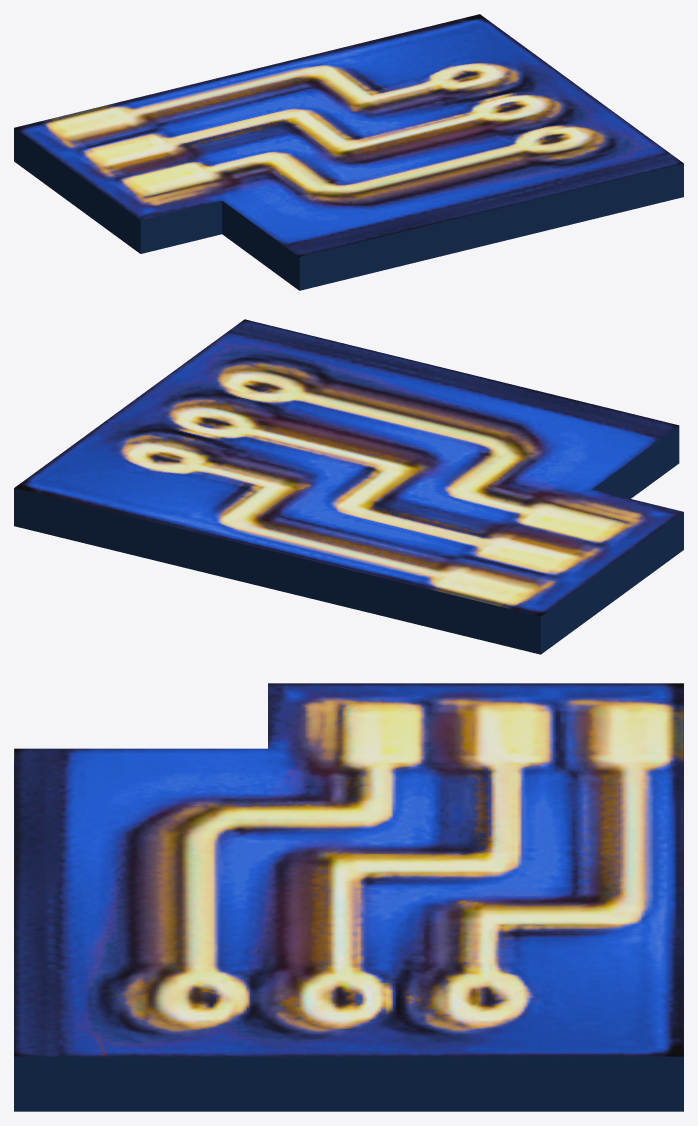
The model's file is static.glb.
3 renders of one model, top to bottom at view 1: azimuth 30°, elevation 25°; view 2: azimuth 150°, elevation 25°; view 3: azimuth 270°, elevation 25°, orthographic. The views are drawn at different scales.
Visible parts, largest first — view 1: Boole; view 2: Boole; view 3: Boole.
Part boxes in pixels (<box>): Boole: <box>14,14,683,290</box>; Boole: <box>14,319,683,654</box>; Boole: <box>14,683,683,1111</box>.
Size of the model in its own units: 0.9601 by 0.0662 by 0.7281.
2 materials, 2 textured.
